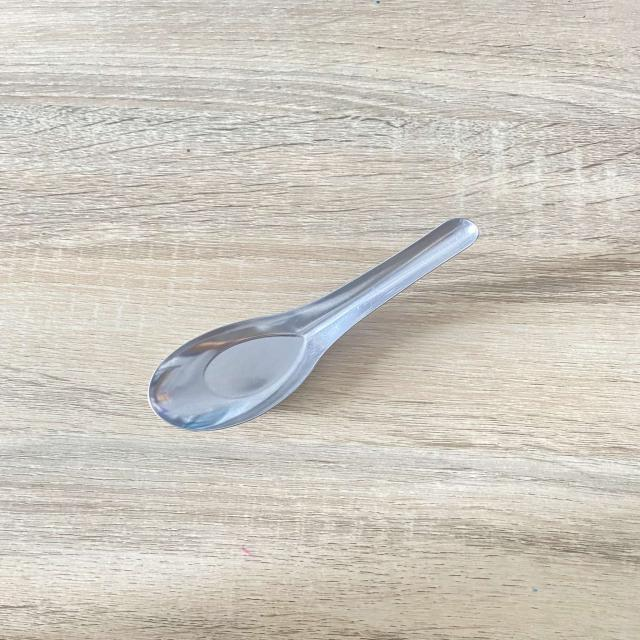short-spoon: (121, 215, 498, 435)
